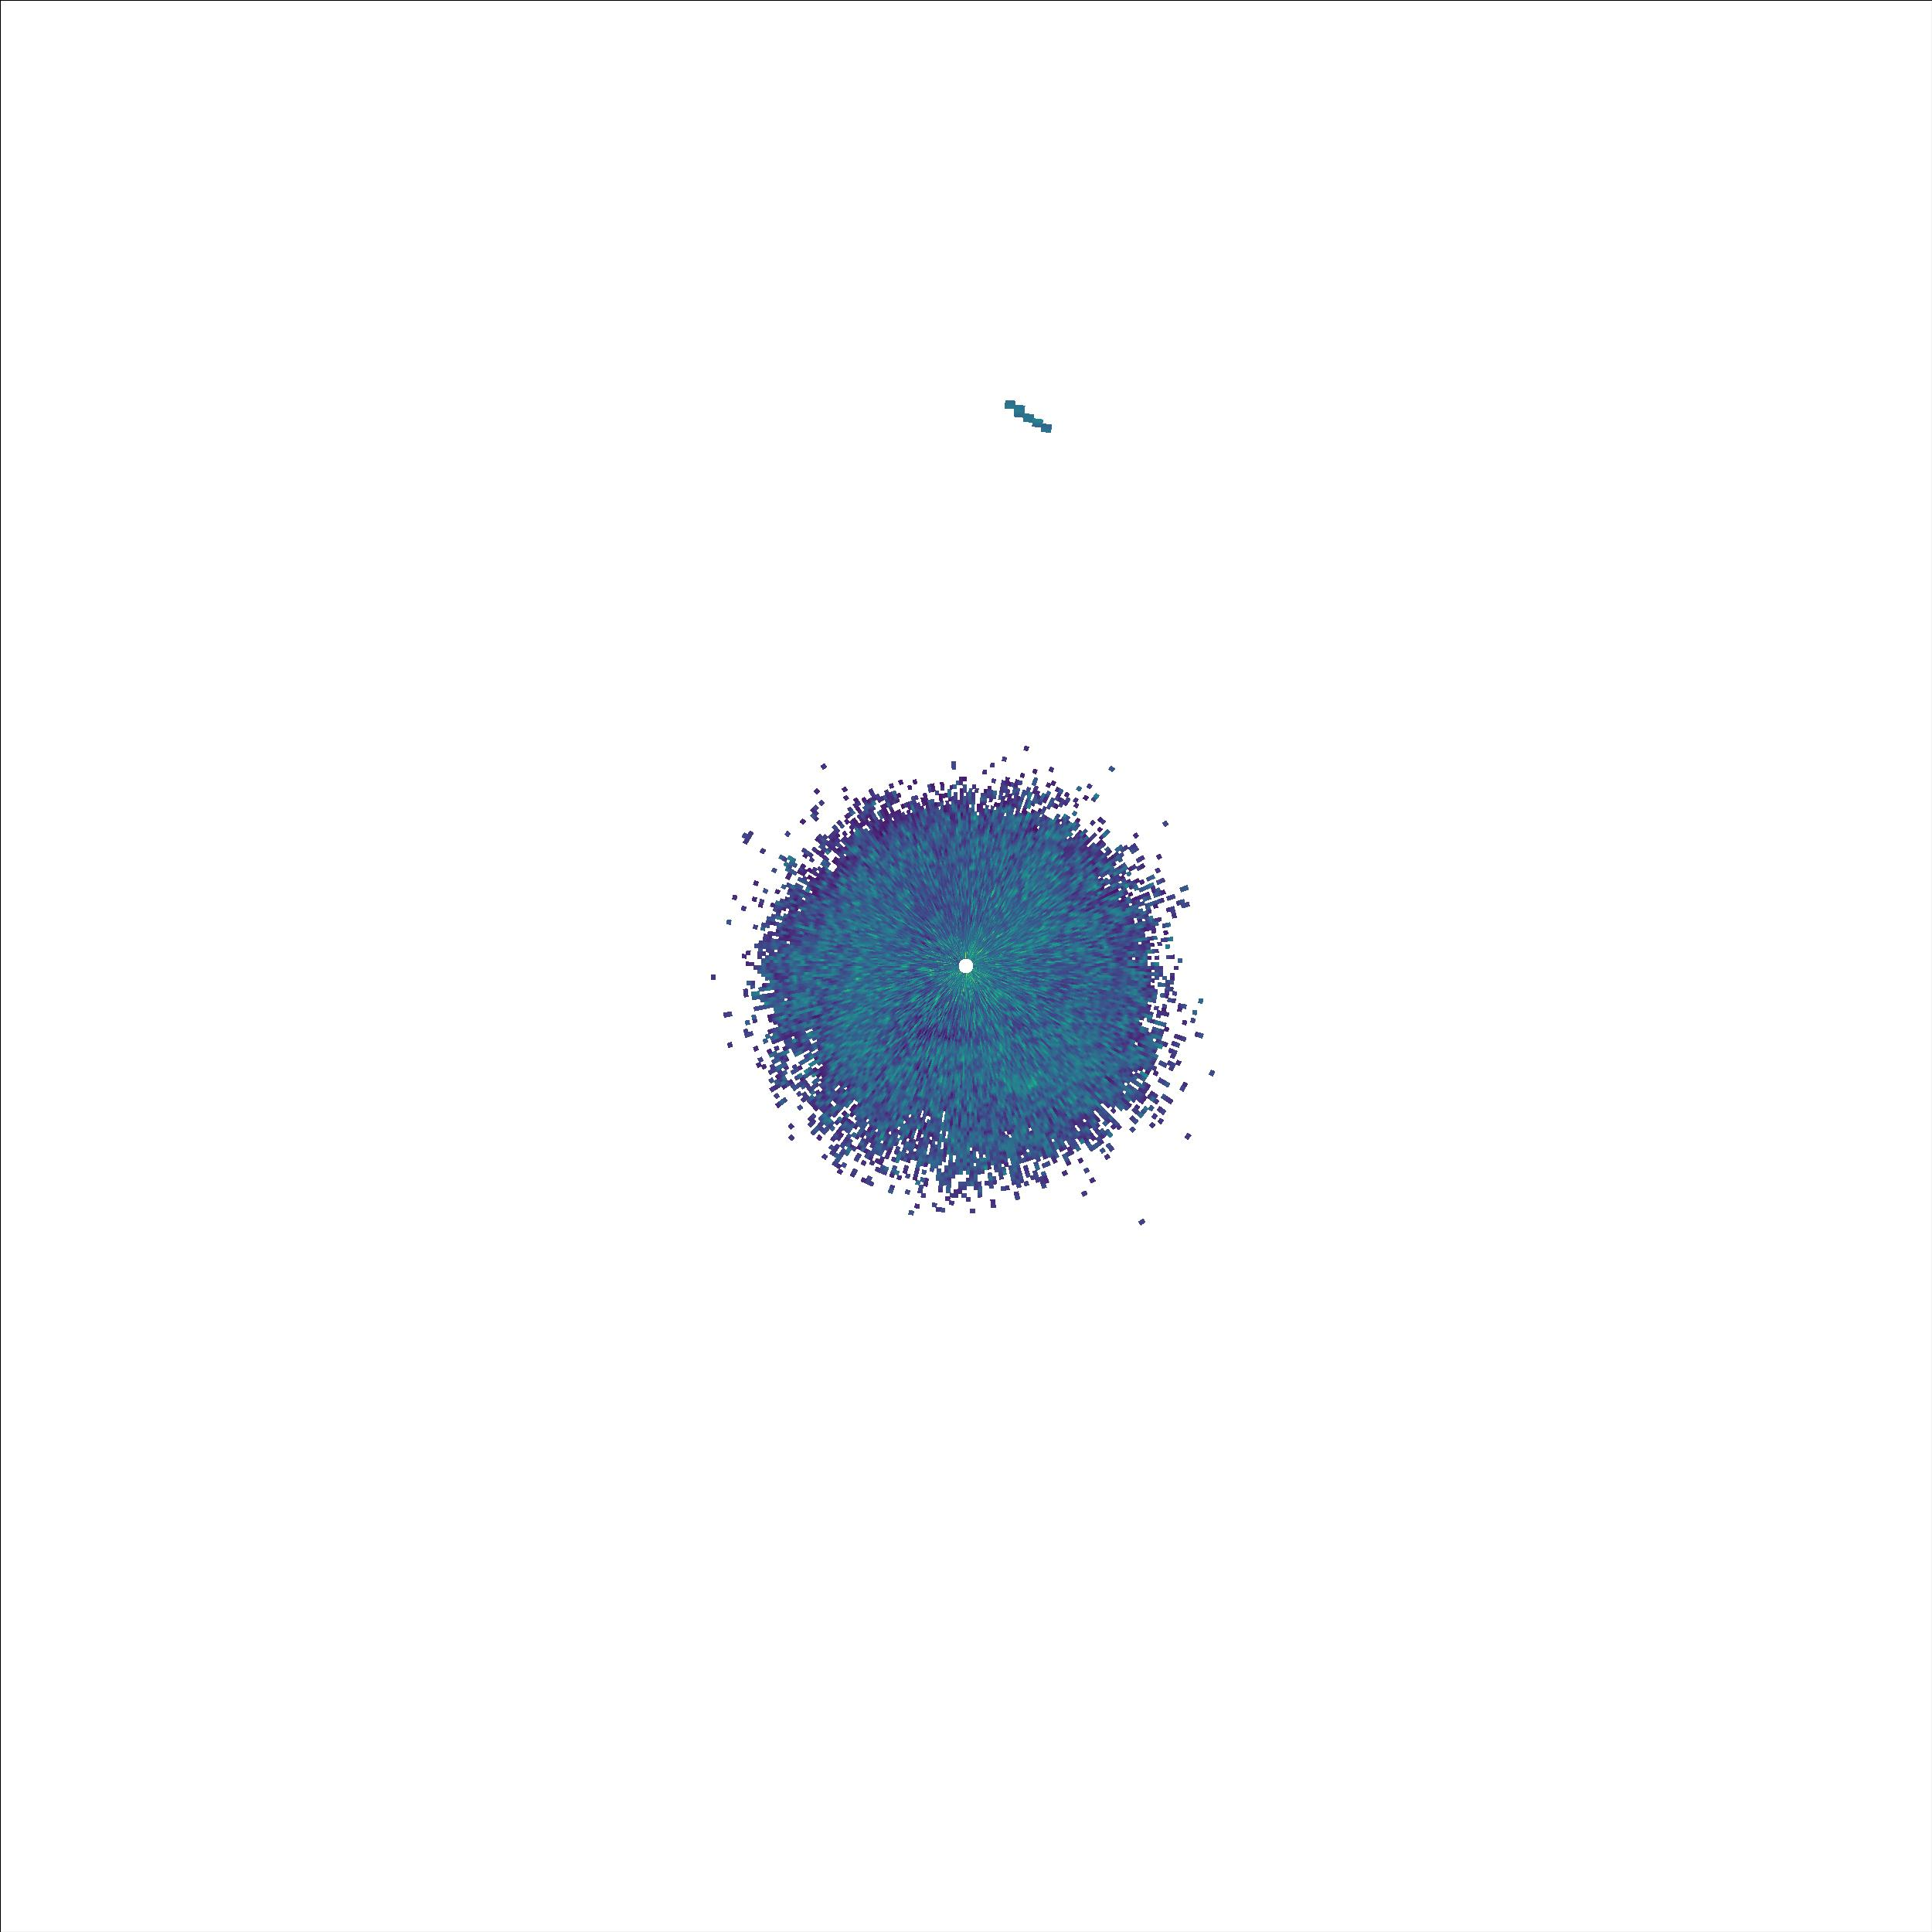fall: (996, 395, 1062, 439)
